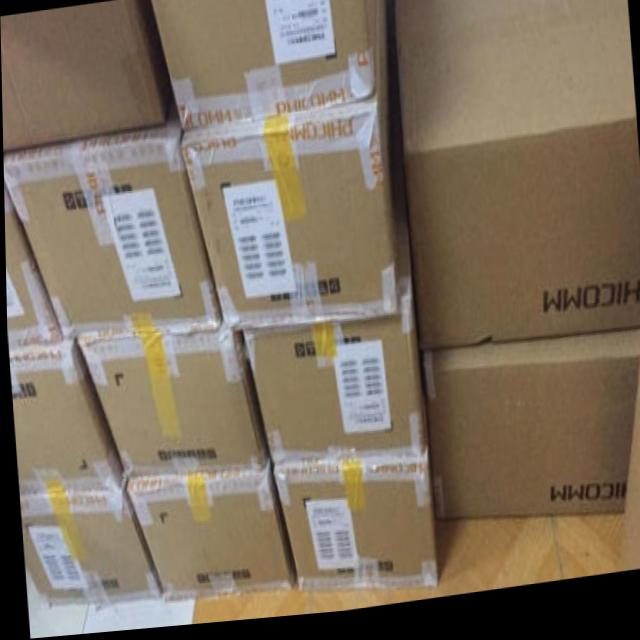box: (397, 0, 640, 361), (179, 0, 399, 334), (239, 117, 423, 468), (3, 99, 222, 339), (418, 341, 639, 528), (152, 0, 377, 134), (75, 335, 264, 480), (0, 0, 172, 149), (267, 457, 436, 598), (126, 463, 293, 605), (18, 476, 160, 610), (9, 342, 123, 496), (3, 180, 63, 351)
